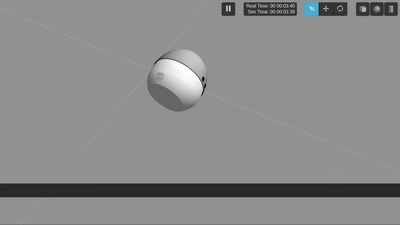mira_robot: (147, 49, 208, 112)
